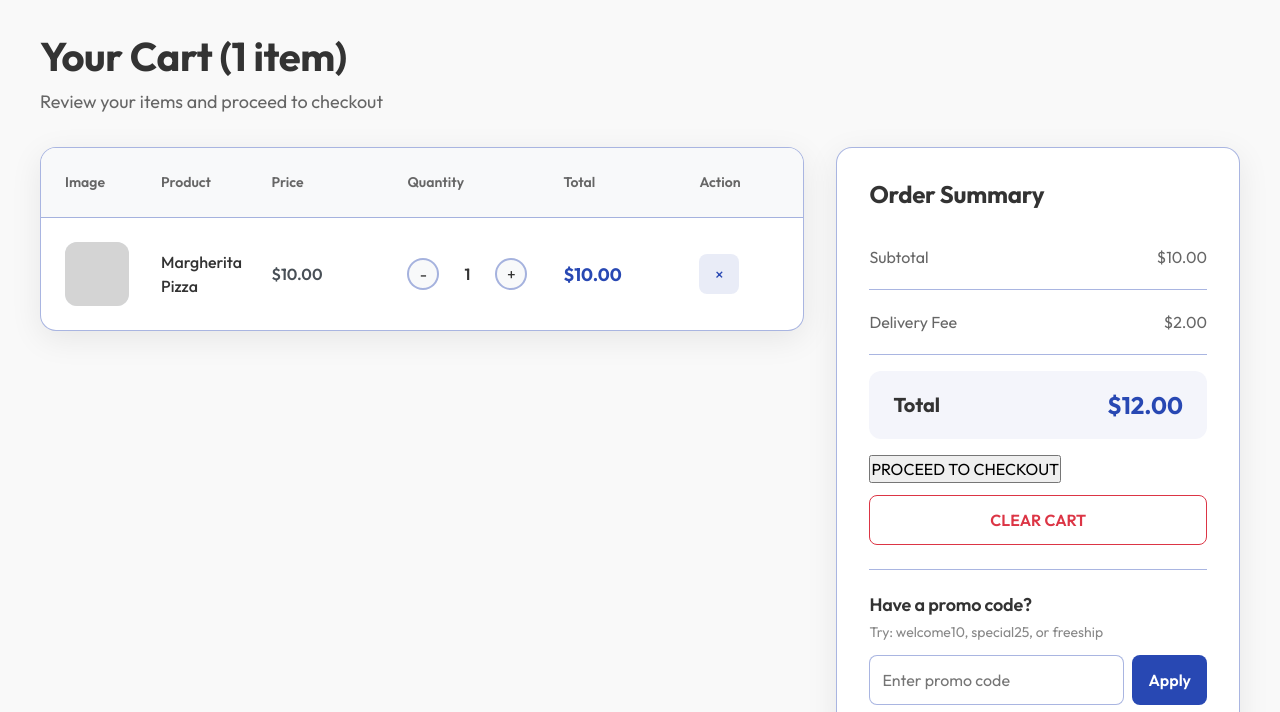
Test: Cart component › applies a percentage promo code to the order total
Type "welcome10" into the field labelled "promo code" at x=997, y=680, box [869,655,1124,705]
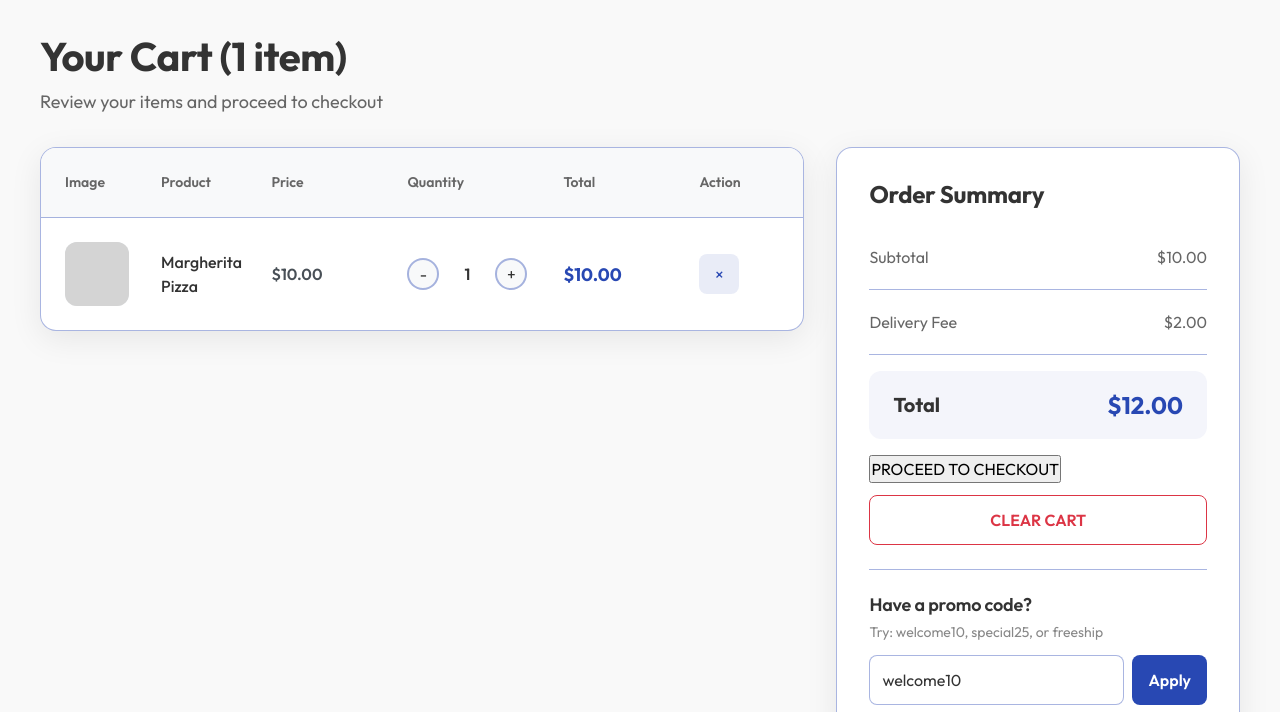
Click the button "Apply" at x=1170, y=680, box [1132,655,1207,705]
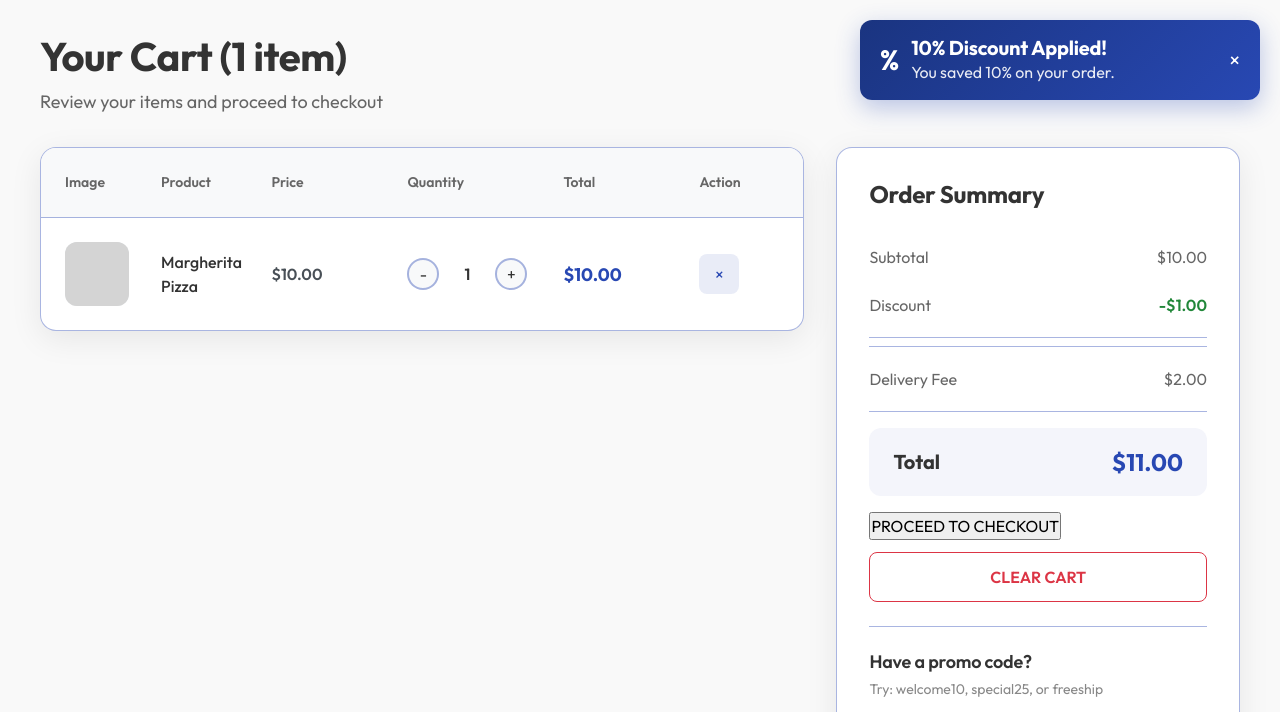
expect the heading "10% Discount Applied!" is shown: met, box [911,35,1107,60]
expect the text "-$1.00" is shown: met, box [1159,293,1207,317]
expect the text "$11.00" is shown: met, box [1112,444,1183,480]
